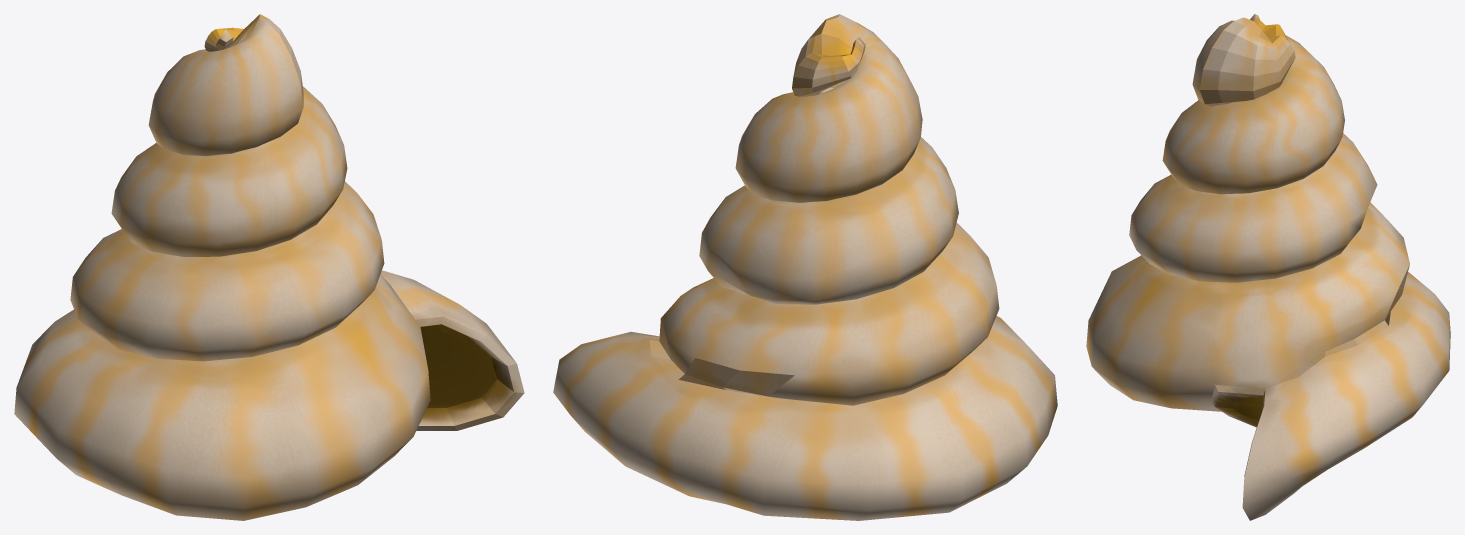
The model's file is Shell2.fbx.
3 renders of one model, left to right at view 1: azimuth 30°, elevation 25°; view 2: azimuth 150°, elevation 25°; view 3: azimuth 270°, elevation 25°, orthographic. The views are drawn at different scales.
Visible parts, largest first — view 1: pHelix1; view 2: pHelix1; view 3: pHelix1.
Boxes of the visible parts, x1,y1,x2,y2 form: pHelix1: (14,14,524,520); pHelix1: (553,14,1057,520); pHelix1: (1086,14,1450,520).
Bounding box in the file's own units: 24.02 × 23.57 × 19.04.
Materials: 1 (1 with a texture image).
